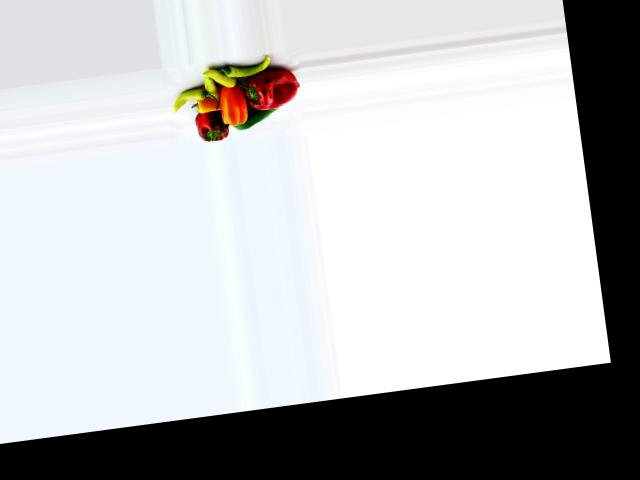bell_pepper: (215, 55, 275, 79)
